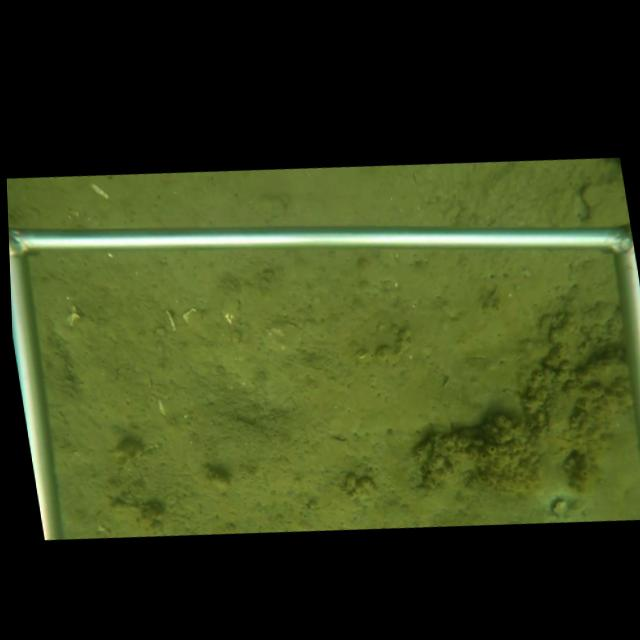Oyster-Closed: (424, 433, 440, 465)
Oyster-Indeterminate: (547, 499, 570, 520)
